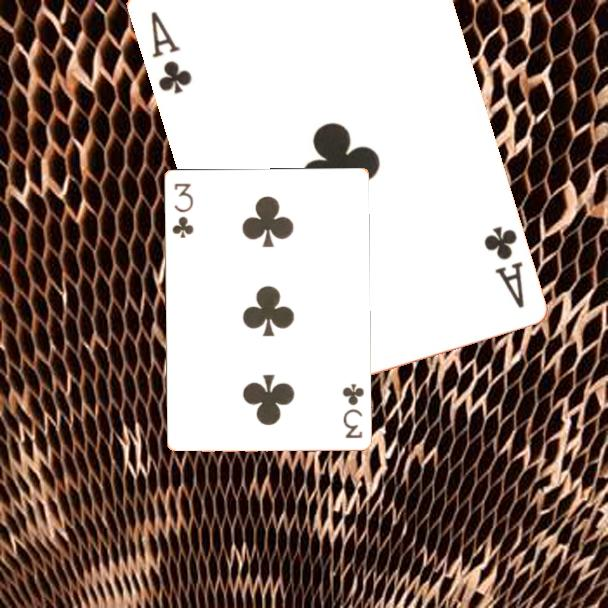c01: (146, 7, 194, 97), (480, 222, 527, 311)
c03: (168, 179, 196, 241), (339, 380, 366, 441)
